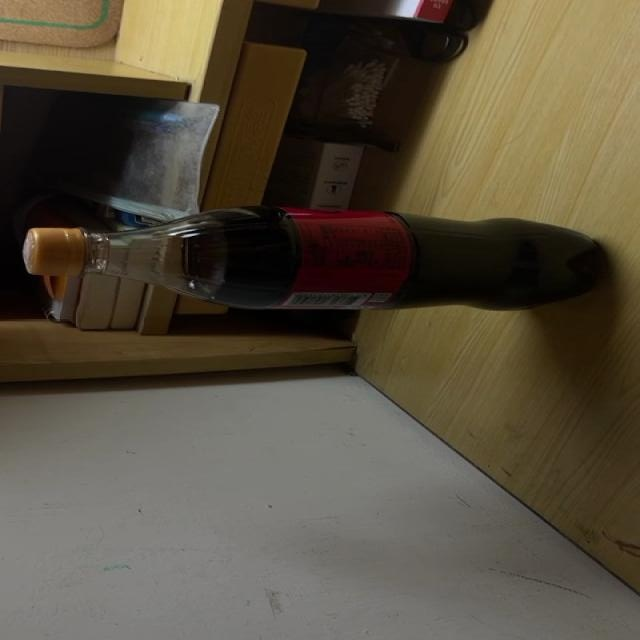Coca-Cola: (22, 206, 603, 311)
